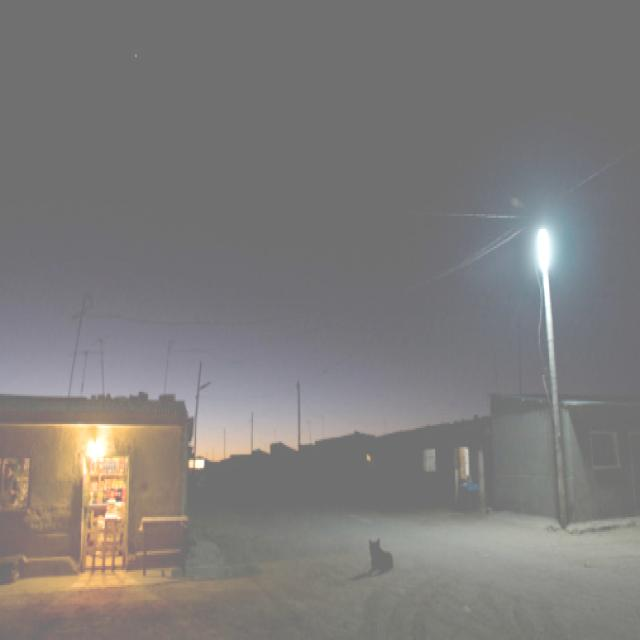Dog: (364, 499, 405, 598)
